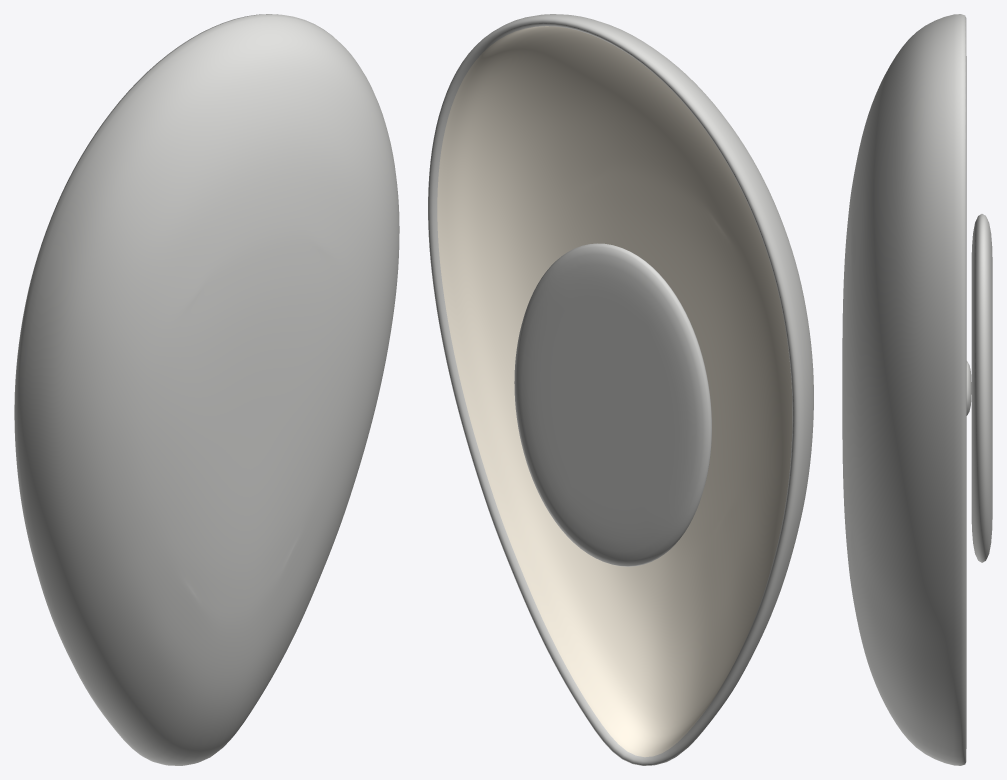
The model's file is Lamp01.fbx.
3 renders of one model, left to right at view 1: azimuth 30°, elevation 25°; view 2: azimuth 150°, elevation 25°; view 3: azimuth 270°, elevation 25°, orthographic. The views are drawn at different scales.
Visible parts, largest first — view 1: Lamp01; view 2: Lamp01; view 3: Lamp01.
Boxes of the visible parts, x1=… form: Lamp01: x1=14, y1=14, x2=399, y2=765; Lamp01: x1=428, y1=14, x2=813, y2=765; Lamp01: x1=842, y1=14, x2=992, y2=765.
Size of the model in its own units: 17.08 by 31.89 by 5.7.
